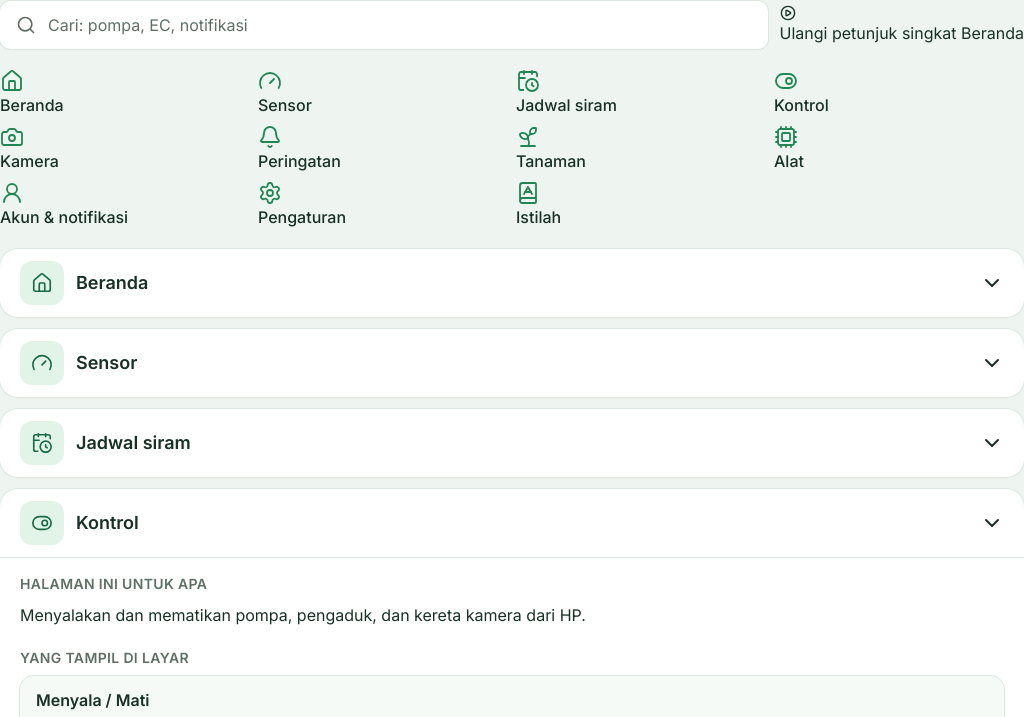
Test: Halaman Panduan › dibuka dari #anchor: bagian itu langsung terbuka, hanya satu sekaligus
(page scrolled)
Step 1. Click the button "Sensor" → (42, 362), box x1=0 y1=328 x2=1023 y2=396
(page scrolled)
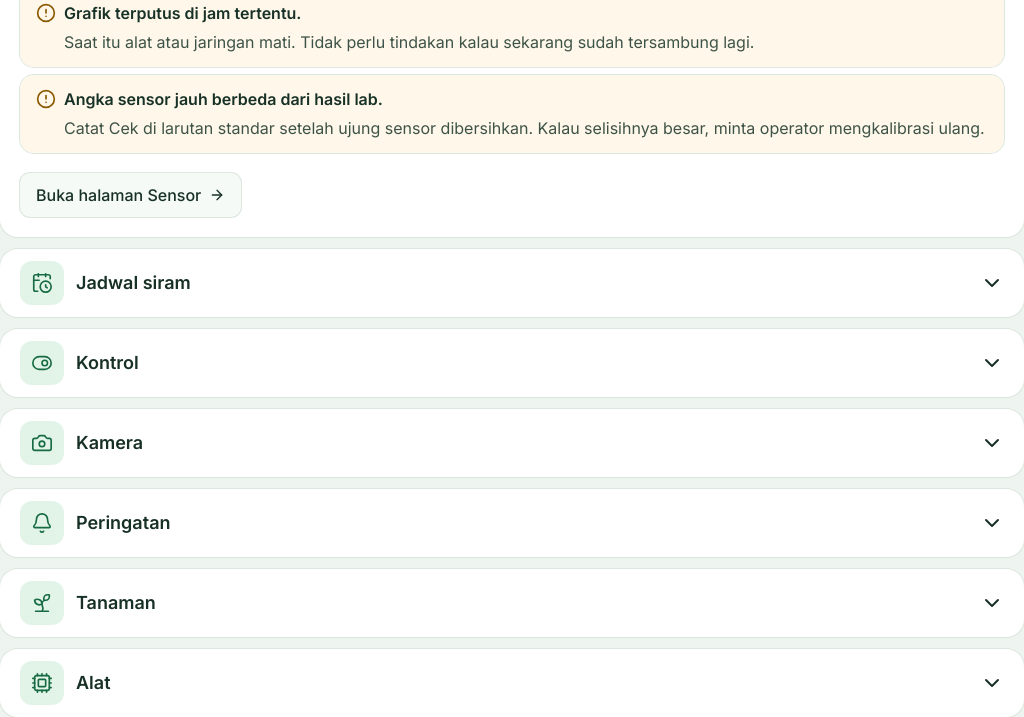
expect the button "Kontrol" is collapsed: met, box x1=0 y1=328 x2=1023 y2=396
